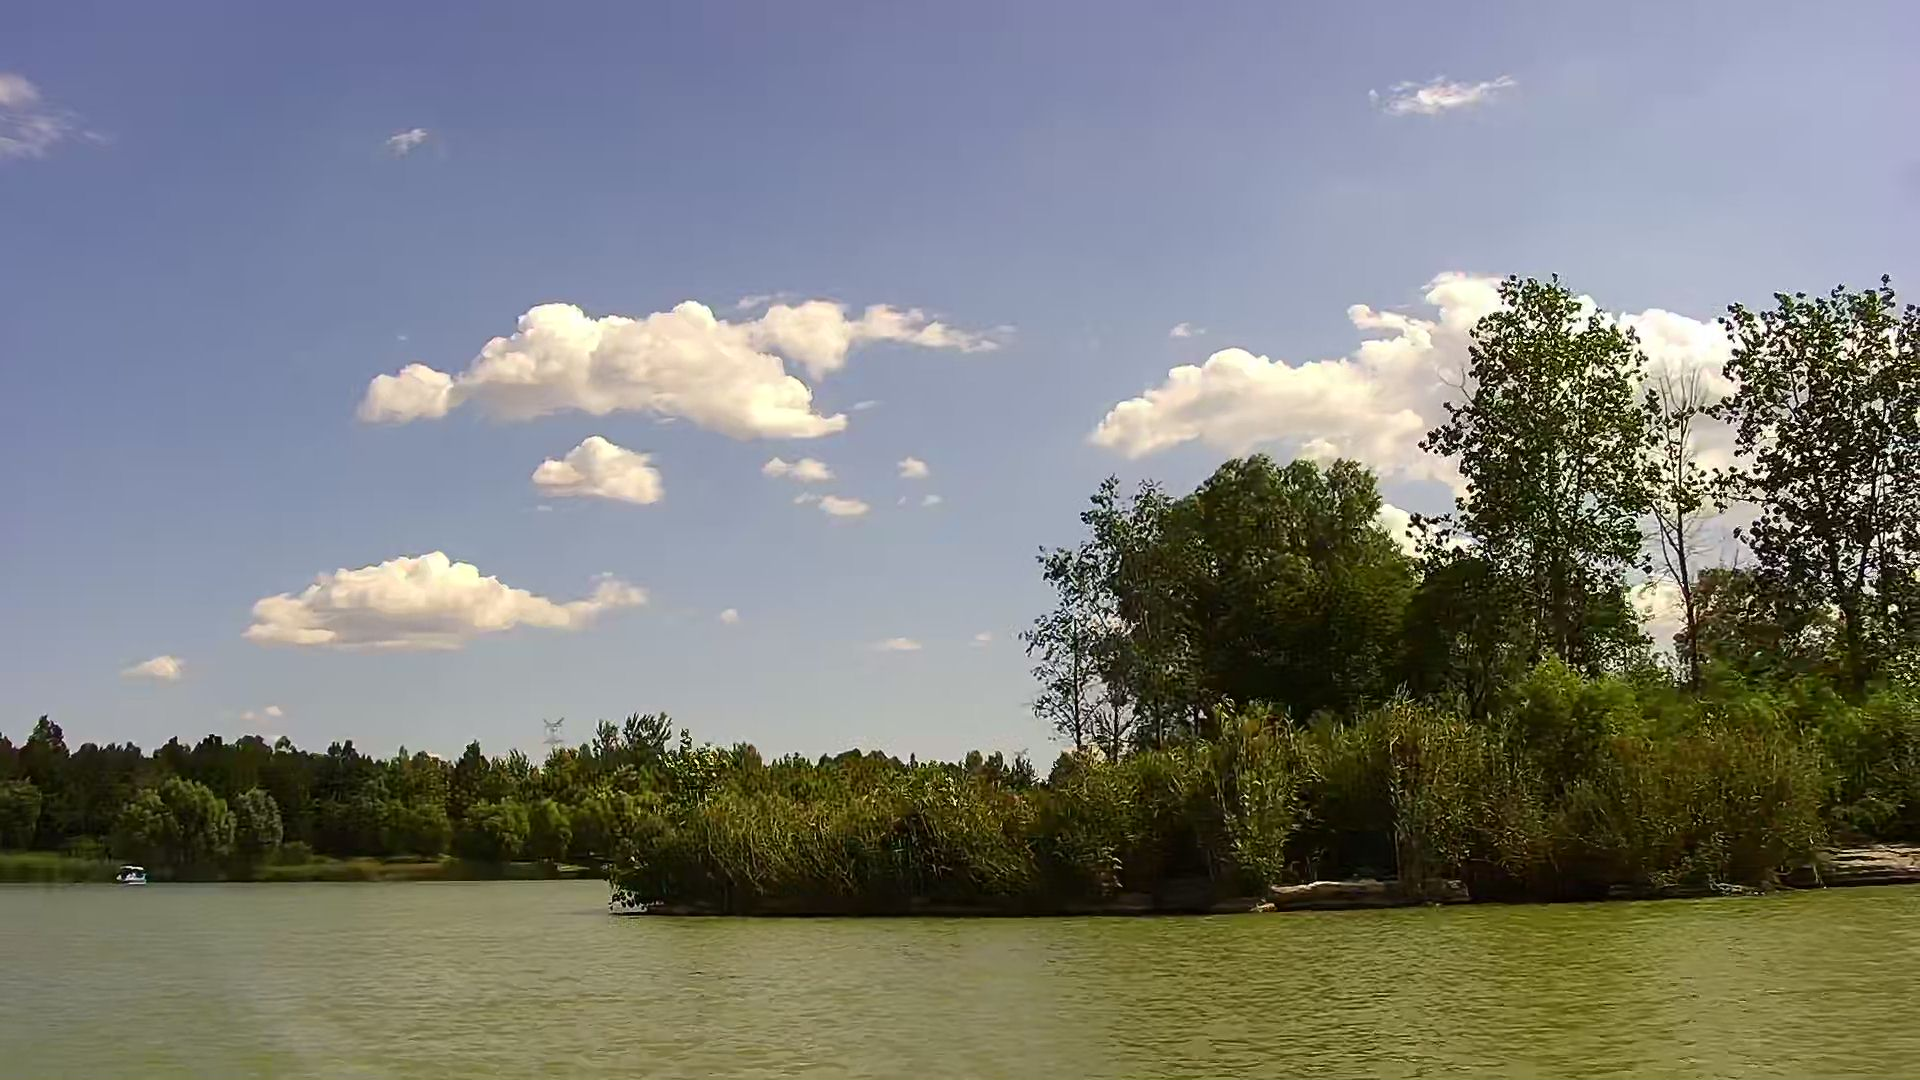boat: (115, 868, 149, 887)
